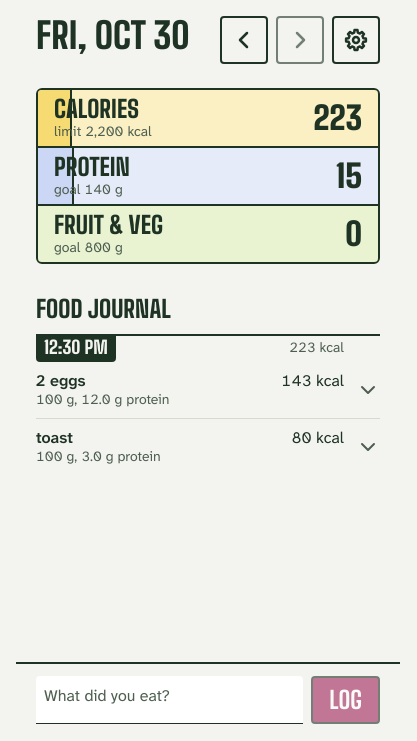
Test: deleting a logged item › shows no delete control until a row is opened, and then only that row's, named for the food
The image size is (417, 741).
Step 1. Click the button "2 eggs 143 kcal 100 g, 12.0 g protein" → x=61, y=381, box [36,362,380,418]
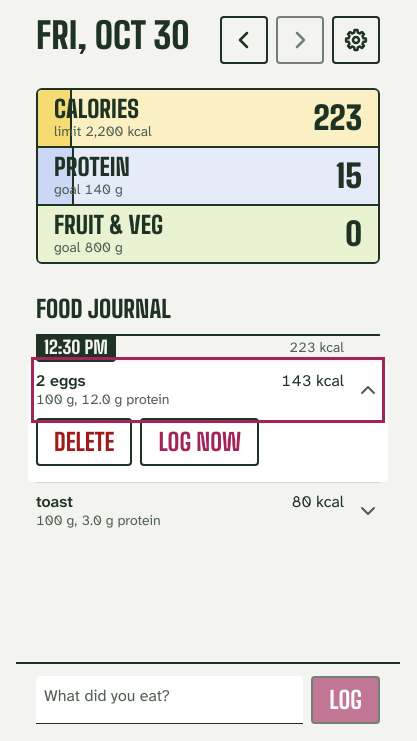
expect the number of buttons "Delete" is 1: met, box [36,418,132,466]
